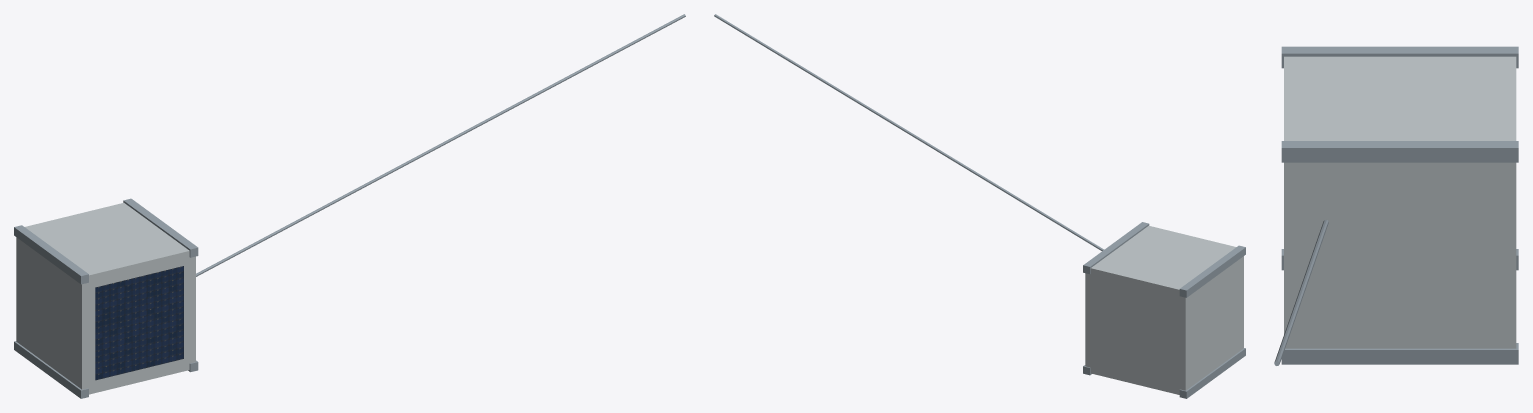
Rendered from ref-cubesat-1u-51439.glb.
3 views of the same model, side by side, from view 1: azimuth 30°, elevation 25°; view 2: azimuth 150°, elevation 25°; view 3: azimuth 270°, elevation 25° (orthographic). The views are drawn at different scales.
Parts seen in each view (by area): view 1: Spacecraft body, Body-mounted cells, Dispenser rail (×3), Antenna boom; view 2: Spacecraft body, Dispenser rail (×3), Antenna boom; view 3: Spacecraft body, Dispenser rail (×3), Antenna boom.
Boxes of the visible parts, box(x1,y1,x2,y2) form: Spacecraft body: box(16, 203, 195, 394); Body-mounted cells: box(95, 266, 183, 380); Dispenser rail (×3): box(14, 198, 198, 398); Antenna boom: box(196, 14, 685, 276); Spacecraft body: box(1085, 226, 1243, 394); Dispenser rail (×3): box(1083, 222, 1245, 398); Antenna boom: box(714, 14, 1104, 250); Spacecraft body: box(1284, 56, 1516, 348); Dispenser rail (×3): box(1281, 46, 1518, 364); Antenna boom: box(1274, 219, 1328, 365).
Size of the model in its own units: 0.5295 by 0.2004 by 0.1051.
Materials: 3 (1 with a texture image).
